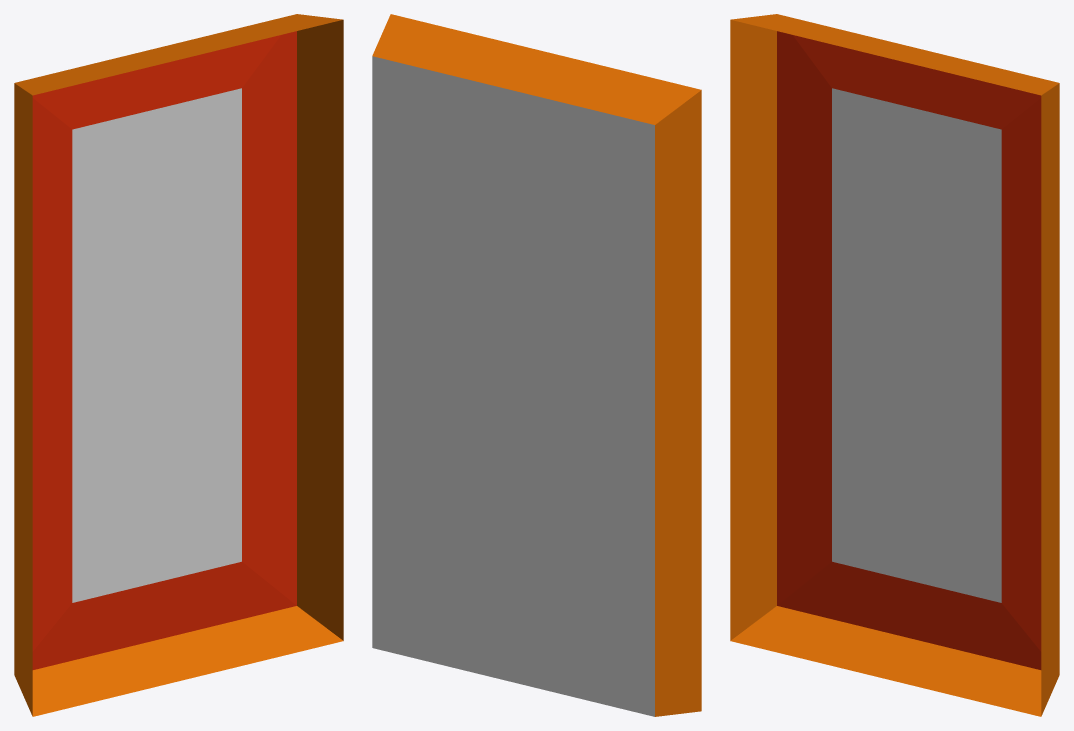
The model's file is portal.fbx.
3 views of the same model, side by side, from view 1: azimuth 30°, elevation 25°; view 2: azimuth 150°, elevation 25°; view 3: azimuth 330°, elevation 25° (orthographic).
Parts seen in each view (by area): view 1: portal; view 2: portal; view 3: portal.
Boxes of the visible parts, x1,y1,x2,y2 form: portal: [14, 14, 343, 716]; portal: [372, 14, 701, 716]; portal: [730, 14, 1059, 716].
Size of the model in its own units: 1.1 by 2.1 by 0.2.
